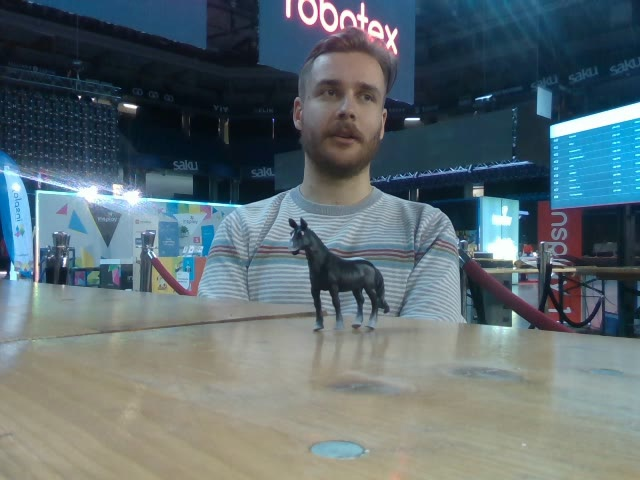toy: (287, 218, 389, 333)
